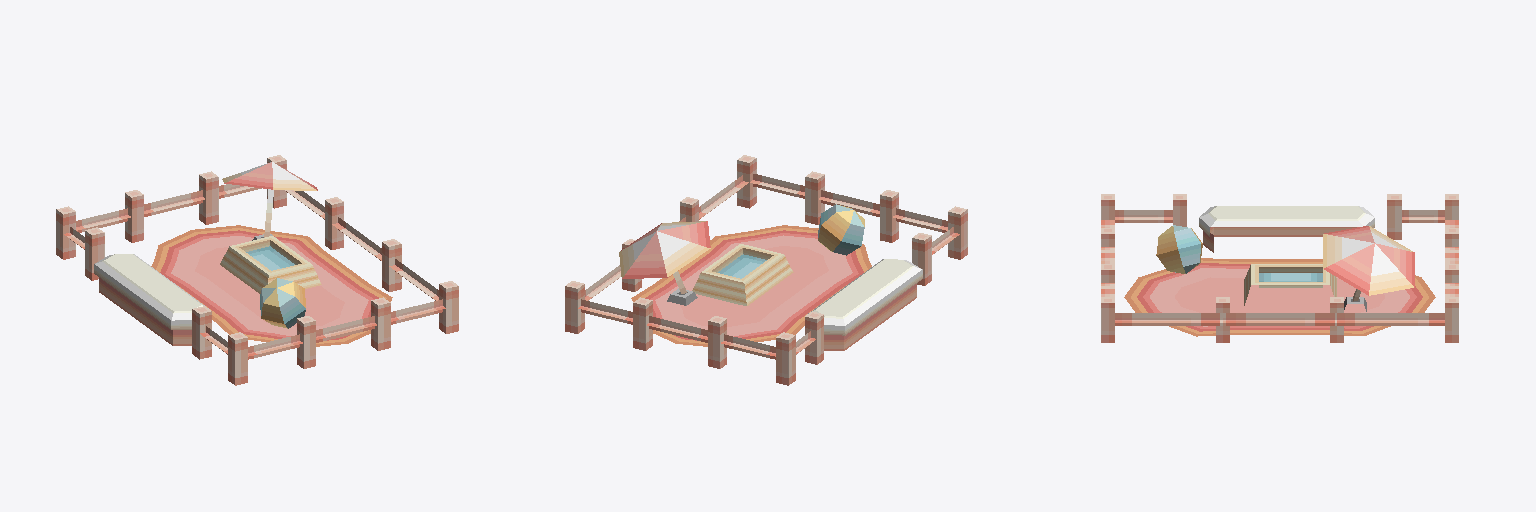
3 renders of one model, left to right at view 1: azimuth 30°, elevation 25°; view 2: azimuth 150°, elevation 25°; view 3: azimuth 270°, elevation 25°, orthographic.
Visible parts, largest first — view 1: polygon0; view 2: polygon0; view 3: polygon0.
Part boxes in pixels (left/top/right/bottom): polygon0: left=56, top=155, right=458, bottom=385; polygon0: left=565, top=155, right=967, bottom=385; polygon0: left=1101, top=194, right=1458, bottom=342.
Bounding box in the file's own units: 9.63 × 3.38 × 13.
2 materials, 2 textured.